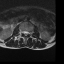CCS_normal: (25, 29, 26, 37)
LFS_normal: (28, 29, 30, 36)
LLS_normal: (26, 29, 28, 36)
RFS_normal: (21, 28, 23, 35)
RLS_normal: (23, 28, 25, 35)
